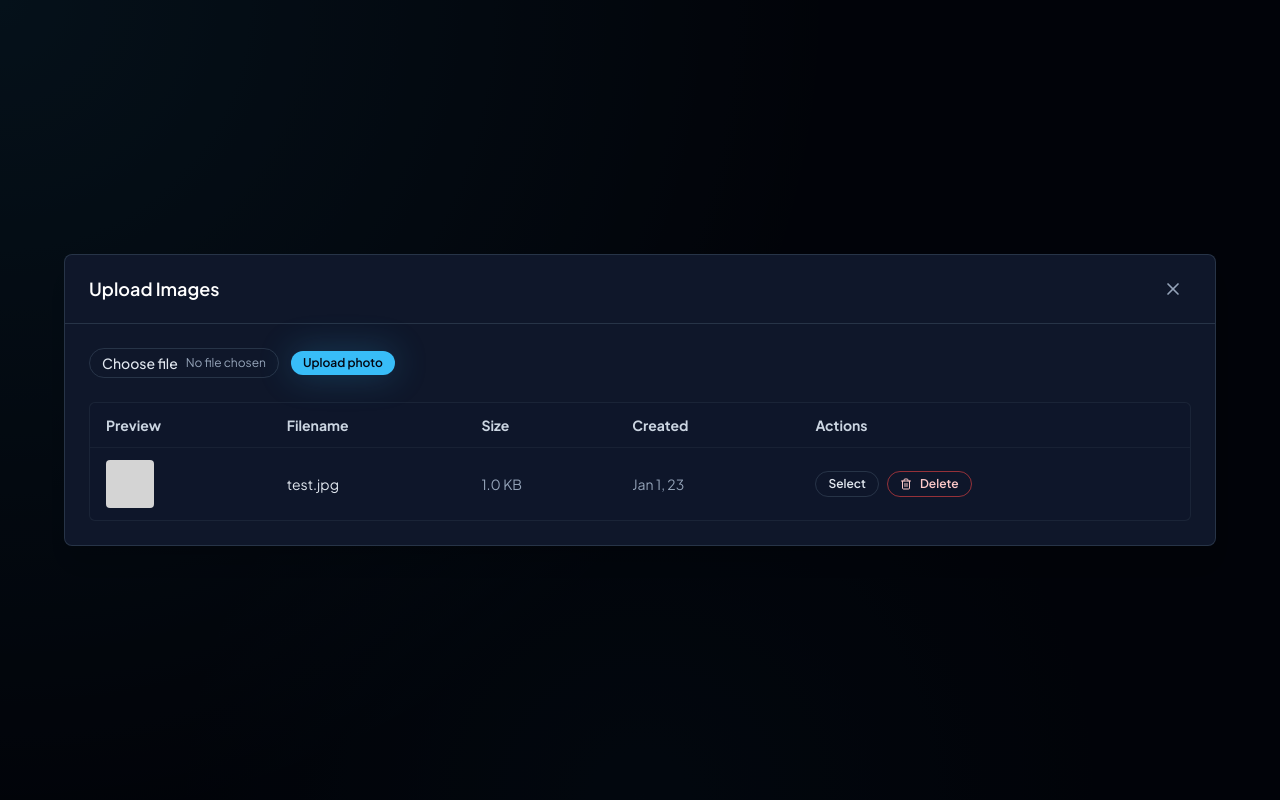
Test: ImageUploaderModal › shows delete confirmation dialog
The image size is (1280, 800).
Expected: the text "test.jpg" is shown, [271,448,465,520]
Click the button "Delete" at (929,484), box [887,471,972,497]
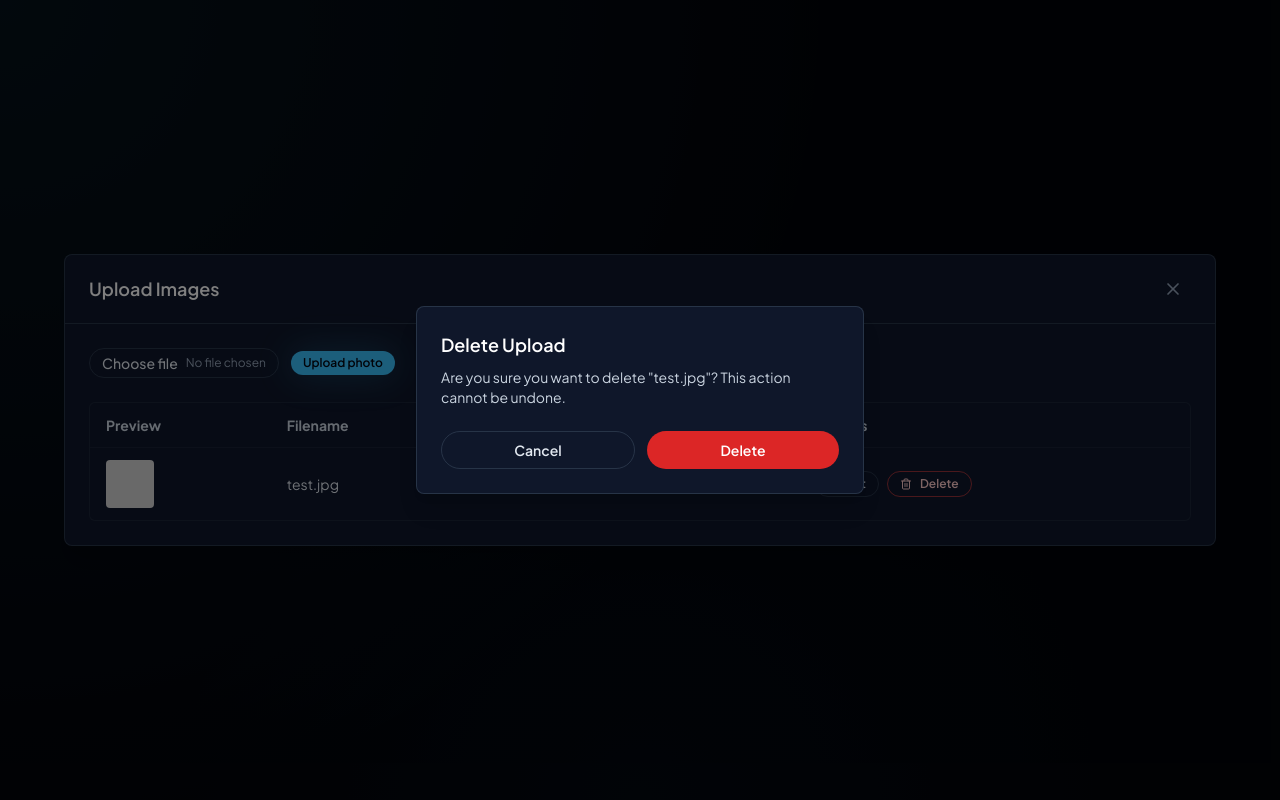
Result: the heading "Delete Upload" is shown at [441,333,566,356]
Result: the text "Are you sure you want to delete" is shown at [441,368,654,386]
